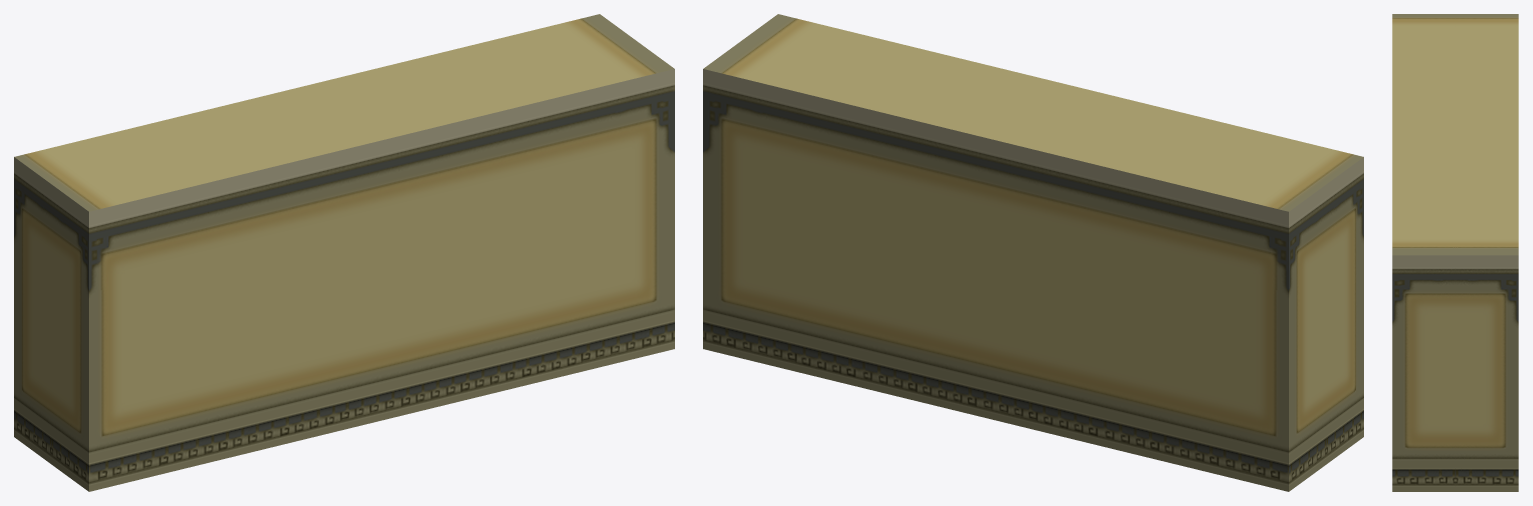
File: sences_zhucheng_chenqiang01.FBX
The picture shows the model from 3 angles, left to right: view 1: azimuth 30°, elevation 25°; view 2: azimuth 150°, elevation 25°; view 3: azimuth 270°, elevation 25°; orthographic projection. The views are drawn at different scales.
Parts seen in each view (by area): view 1: Object330; view 2: Object330; view 3: Object330.
Part boxes in pixels (<box>): Object330: <box>14,14,674,491</box>; Object330: <box>703,14,1363,491</box>; Object330: <box>1392,14,1518,491</box>.
Size of the model in its own units: 49.54 by 10.99 by 22.65.
